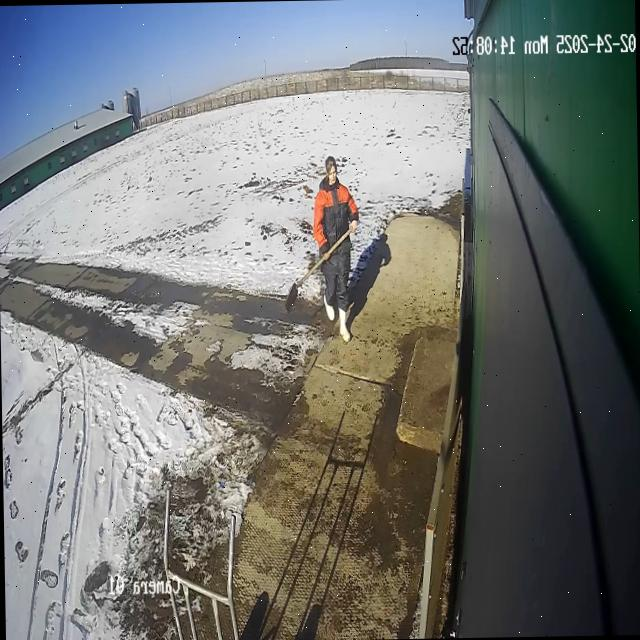Red uniform: (310, 154, 362, 345)
